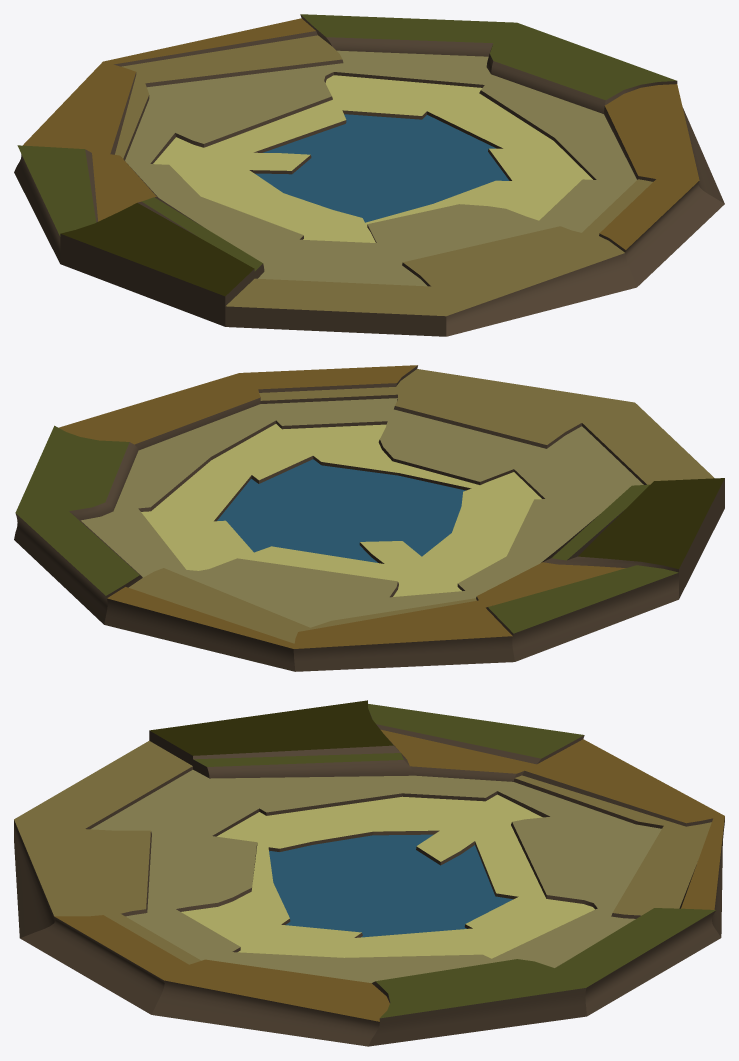
The model's file is tundra-board.fbx.
3 views of the same model, one above another, from view 1: azimuth 30°, elevation 25°; view 2: azimuth 150°, elevation 25°; view 3: azimuth 270°, elevation 25° (orthographic). The views are drawn at different scales.
Parts seen in each view (by area): view 1: pasted__new_board_maybe_pCylinder3; view 2: pasted__new_board_maybe_pCylinder3; view 3: pasted__new_board_maybe_pCylinder3.
Part boxes in pixels (left/top/right/bottom): pasted__new_board_maybe_pCylinder3: left=14, top=14, right=724, bottom=336; pasted__new_board_maybe_pCylinder3: left=14, top=365, right=724, bottom=671; pasted__new_board_maybe_pCylinder3: left=14, top=700, right=724, bottom=1046.
Size of the model in its own units: 348 by 16.27 by 332.
